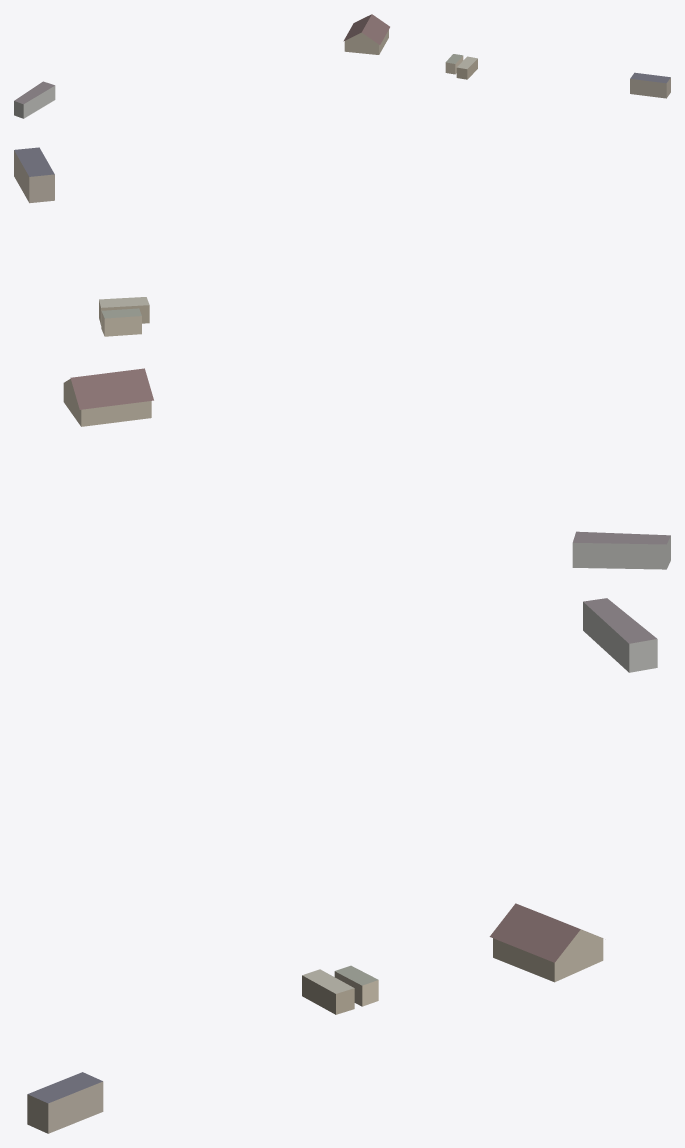
3 renders of one model, top to bottom at view 1: azimuth 30°, elevation 25°; view 2: azimuth 150°, elevation 25°; view 3: azimuth 270°, elevation 25°, orthographic. The views are drawn at different scales.
Visible parts, largest first — view 1: tuile; view 2: tuile; view 3: tuile.
Part boxes in pixels (x1,y1,x2,y2): tuile: (14,14,670,118); tuile: (14,147,670,569); tuile: (27,598,657,1133).
Size of the model in its own units: 173 by 6.85 by 91.3.
